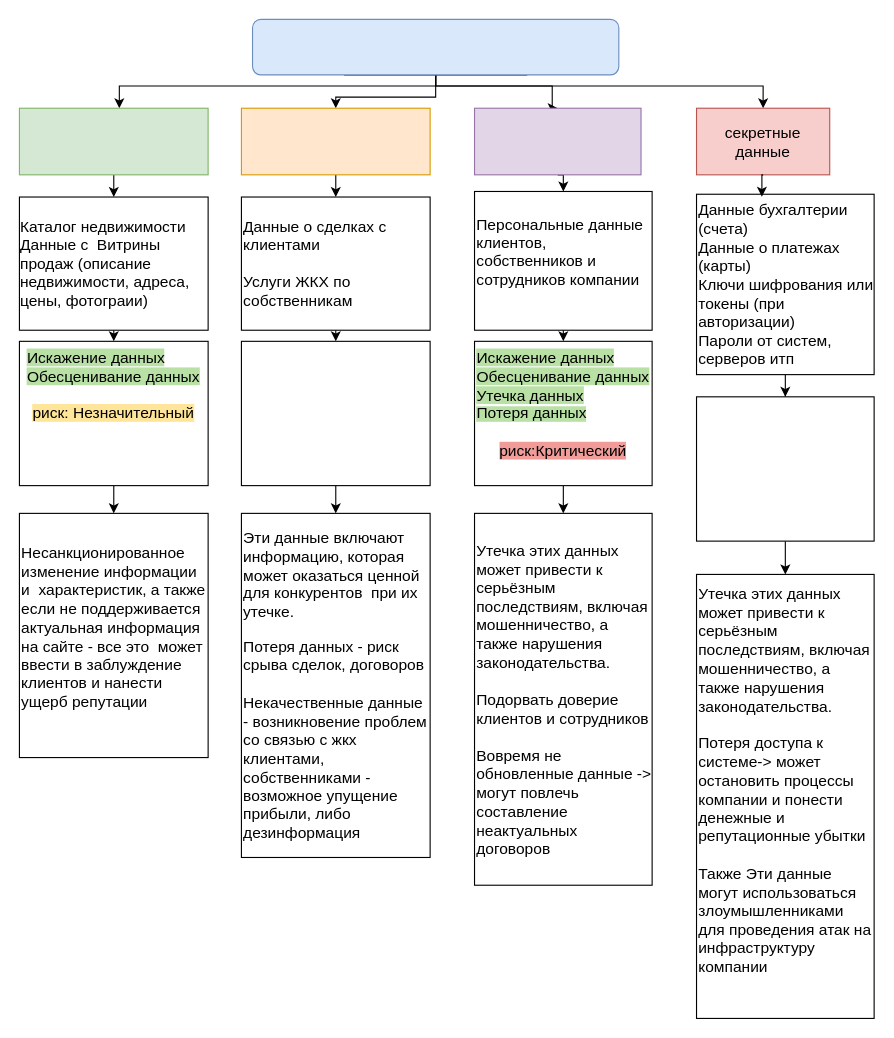
The diagram is 894 pixels wide and 1038 high, and some of its shapes have lost their labels. The shapes that lost their labels are listed below. From the top down, each one's centre as x and y in pixels, then its label:
(x=435, y=46): Безопасность данных
(x=113, y=141): публичные данные
(x=335, y=141): внутренние данные
(x=557, y=141): конфиденциальные данные
(x=335, y=413): Утечка данных Потеря данных Некачественные данные риск:Значительный
(x=784, y=468): Искажение данных Утечка данных Потеря данных риск:Критический
